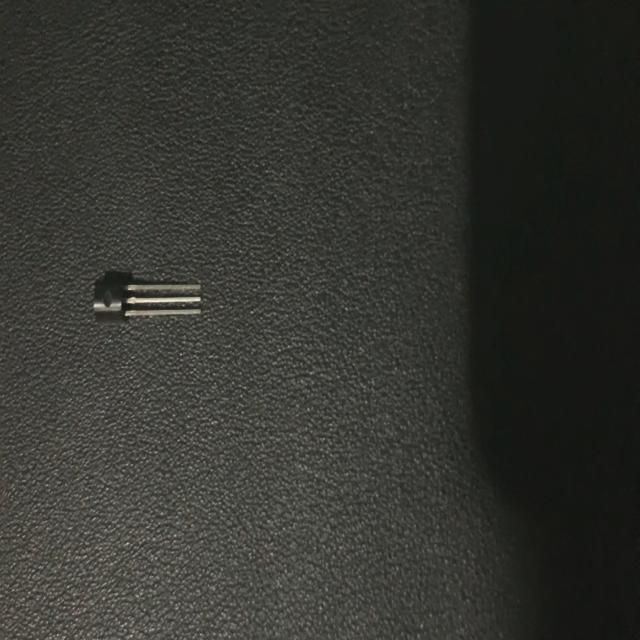BJT: (90, 264, 208, 331)
